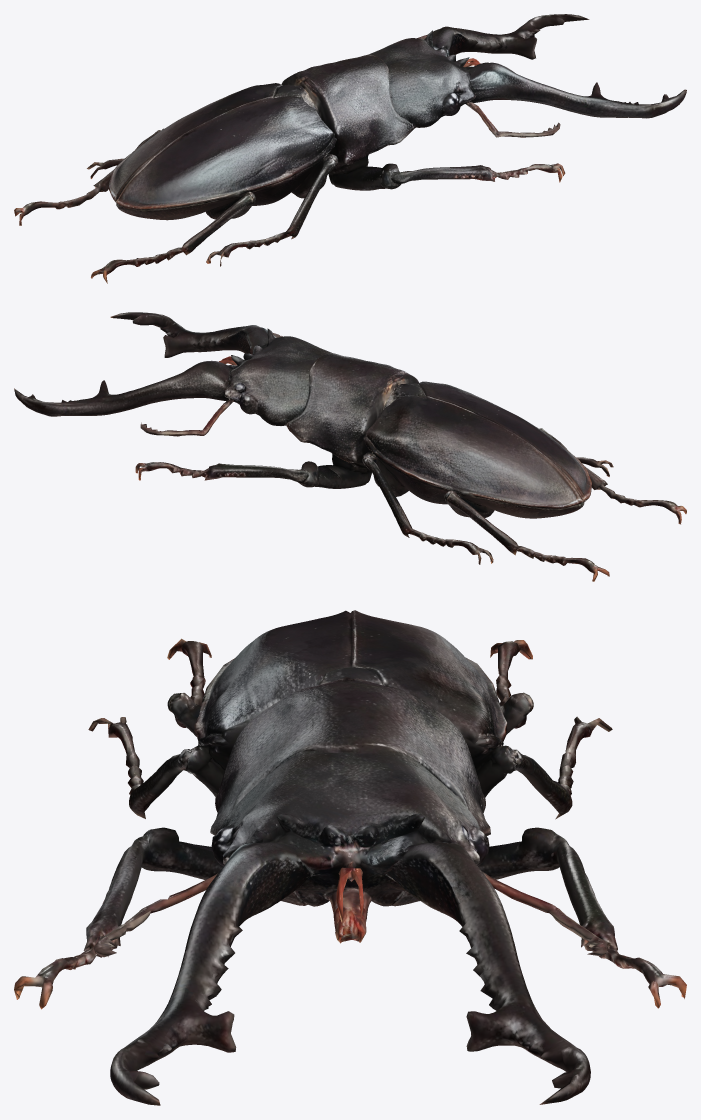
Rendered from 長頸鹿.glb.
3 views of the same model, one above another, from view 1: azimuth 30°, elevation 25°; view 2: azimuth 150°, elevation 25°; view 3: azimuth 270°, elevation 25° (orthographic). The views are drawn at different scales.
Parts seen in each view (by area): view 1: tripo_node_7dc608af-2a7d-4c25-b1a6-512c860e201a; view 2: tripo_node_7dc608af-2a7d-4c25-b1a6-512c860e201a; view 3: tripo_node_7dc608af-2a7d-4c25-b1a6-512c860e201a.
Boxes of the visible parts, box(x1,y1,x2,y2) form: tripo_node_7dc608af-2a7d-4c25-b1a6-512c860e201a: box(14, 14, 686, 283); tripo_node_7dc608af-2a7d-4c25-b1a6-512c860e201a: box(14, 312, 686, 581); tripo_node_7dc608af-2a7d-4c25-b1a6-512c860e201a: box(14, 610, 686, 1105).
Bounding box in the file's own units: 0.9783 × 0.186 × 0.499.
1 material, 1 textured.
